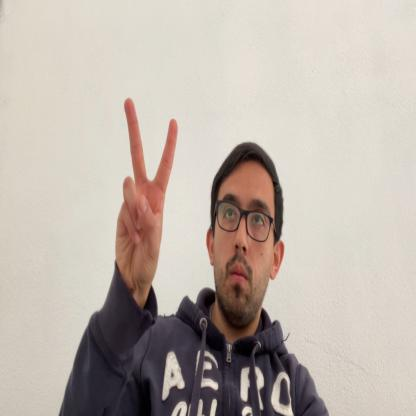V: (116, 98, 178, 290)
